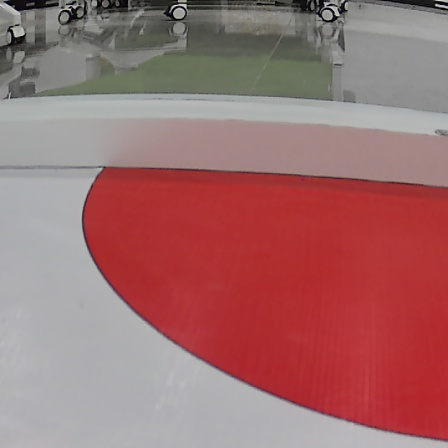red_base: (82, 161, 448, 445)
